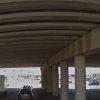Bridge: (6, 7, 91, 78)
